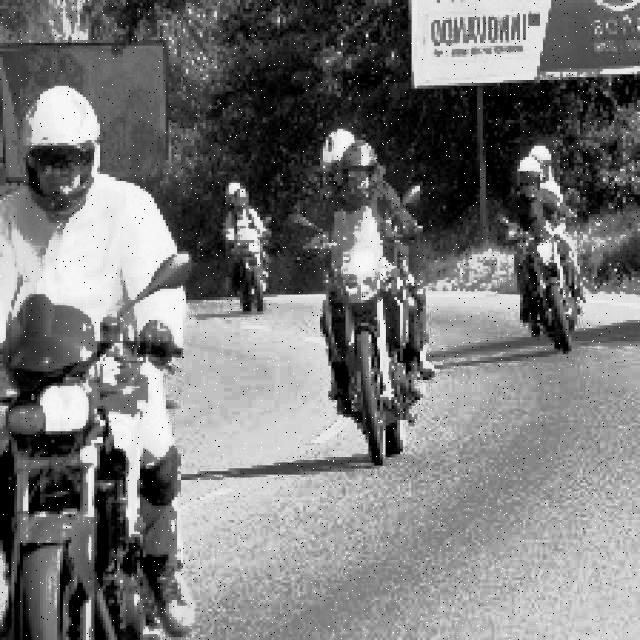Bike: (2, 299, 158, 639), (315, 213, 430, 463), (515, 189, 593, 353), (227, 219, 277, 313)
